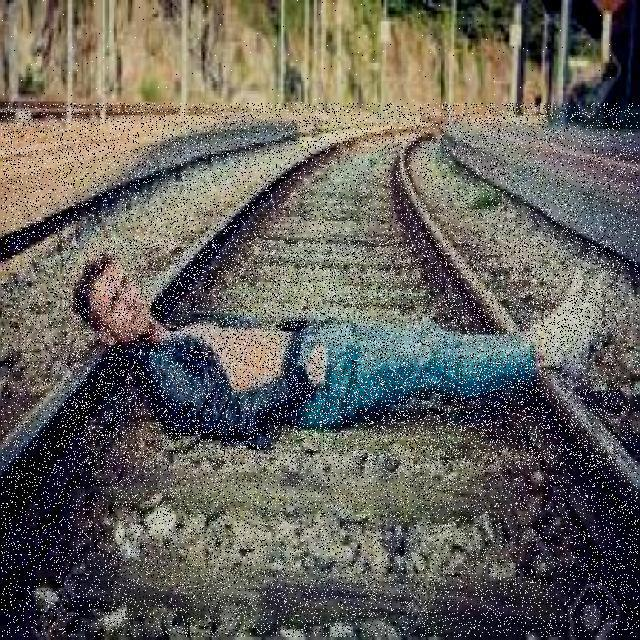danger: (64, 241, 618, 467)
rail: (1, 103, 639, 637)
